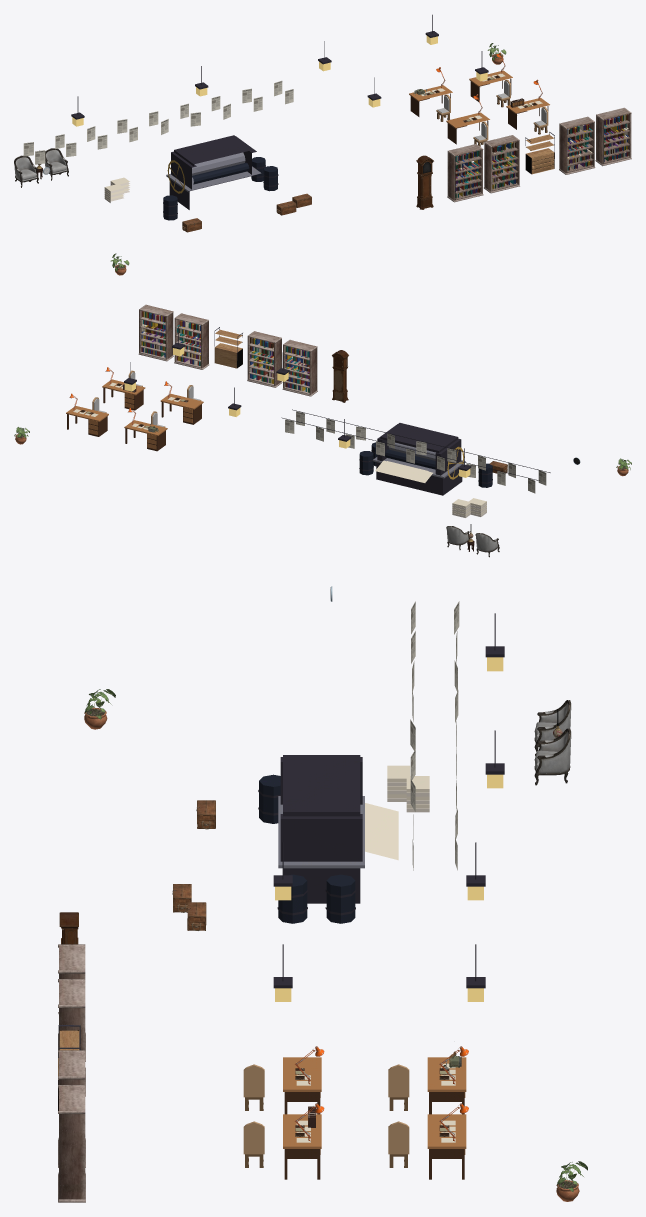
Rendered from world-city3-press.glb.
The picture shows the model from 3 angles, top to bottom: view 1: azimuth 30°, elevation 25°; view 2: azimuth 150°, elevation 25°; view 3: azimuth 270°, elevation 25°; orthographic projection. The views are drawn at different scales.
Parts seen in each view (by area): view 1: PressInterior_Props, PressInterior_Newsprint, PressInterior_wooden_bookshelf_worn.002, PressInterior_wooden_bookshelf_worn.001, PressInterior_wooden_bookshelf_worn.003, PressInterior_wooden_bookshelf_worn, PressInterior_drawer_cabinet, PressInterior_vintage_grandfather_clock_01, PressInterior_LampGlow, PressInterior_ArmChair_01, PressInterior_ArmChair_01.001; view 2: PressInterior_Props, PressInterior_Newsprint, PressInterior_wooden_bookshelf_worn, PressInterior_wooden_bookshelf_worn.003, PressInterior_wooden_bookshelf_worn.002, PressInterior_wooden_bookshelf_worn.001, PressInterior_drawer_cabinet, PressInterior_vintage_grandfather_clock_01, PressInterior_LampGlow, PressInterior_ArmChair_01, PressInterior_ArmChair_01.001; view 3: PressInterior_Props, PressInterior_wooden_bookshelf_worn, PressInterior_Newsprint, PressInterior_wooden_bookshelf_worn.002, PressInterior_LampGlow, PressInterior_ArmChair_01.001, PressInterior_wooden_bookshelf_worn.001, PressInterior_wooden_bookshelf_worn.003, PressInterior_ArmChair_01, PressInterior_ChairCushioned.001, PressInterior_ChairCushioned, PressInterior_ChairCushioned.002 (+1 smaller).
Part boxes in pixels (bbox=[...]): PressInterior_Props: bbox=[71, 14, 628, 220]; PressInterior_Newsprint: bbox=[23, 80, 293, 164]; PressInterior_wooden_bookshelf_worn.002: bbox=[484, 135, 519, 193]; PressInterior_wooden_bookshelf_worn.001: bbox=[559, 116, 595, 174]; PressInterior_wooden_bookshelf_worn.003: bbox=[447, 144, 483, 202]; PressInterior_wooden_bookshelf_worn: bbox=[595, 107, 631, 166]; PressInterior_drawer_cabinet: bbox=[525, 132, 554, 174]; PressInterior_vintage_grandfather_clock_01: bbox=[416, 155, 433, 209]; PressInterior_LampGlow: bbox=[72, 35, 487, 126]; PressInterior_ArmChair_01: bbox=[14, 155, 38, 187]; PressInterior_ArmChair_01.001: bbox=[45, 148, 68, 180]; PressInterior_Props: bbox=[66, 311, 550, 517]; PressInterior_Newsprint: bbox=[285, 411, 546, 493]; PressInterior_wooden_bookshelf_worn: bbox=[138, 304, 173, 361]; PressInterior_wooden_bookshelf_worn.003: bbox=[282, 339, 317, 396]; PressInterior_wooden_bookshelf_worn.002: bbox=[247, 331, 282, 387]; PressInterior_wooden_bookshelf_worn.001: bbox=[174, 313, 209, 369]; PressInterior_drawer_cabinet: bbox=[214, 327, 242, 368]; PressInterior_vintage_grandfather_clock_01: bbox=[332, 350, 348, 402]; PressInterior_LampGlow: bbox=[124, 347, 470, 477]; PressInterior_ArmChair_01: bbox=[475, 533, 499, 557]; PressInterior_ArmChair_01.001: bbox=[446, 526, 469, 549]; PressInterior_Props: bbox=[258, 613, 504, 1179]; PressInterior_wooden_bookshelf_worn: bbox=[58, 1085, 85, 1202]; PressInterior_Newsprint: bbox=[410, 601, 459, 870]; PressInterior_wooden_bookshelf_worn.002: bbox=[58, 979, 85, 1096]; PressInterior_LampGlow: bbox=[275, 657, 503, 1001]; PressInterior_ArmChair_01.001: bbox=[534, 728, 571, 785]; PressInterior_wooden_bookshelf_worn.001: bbox=[58, 1050, 85, 1167]; PressInterior_wooden_bookshelf_worn.003: bbox=[58, 944, 85, 1061]; PressInterior_ArmChair_01: bbox=[534, 700, 571, 756]; PressInterior_ChairCushioned.001: bbox=[388, 1064, 409, 1110]; PressInterior_ChairCushioned: bbox=[388, 1121, 409, 1167]; PressInterior_ChairCushioned.002: bbox=[243, 1121, 264, 1167].
Size of the model in its own units: 24.28 by 3.92 by 11.
Materials: 27 (23 with a texture image).
